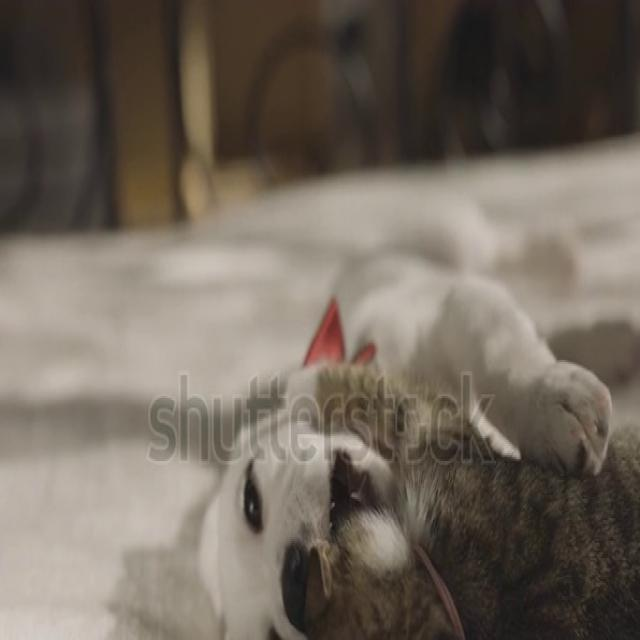normal_animals: (167, 284, 640, 640)
